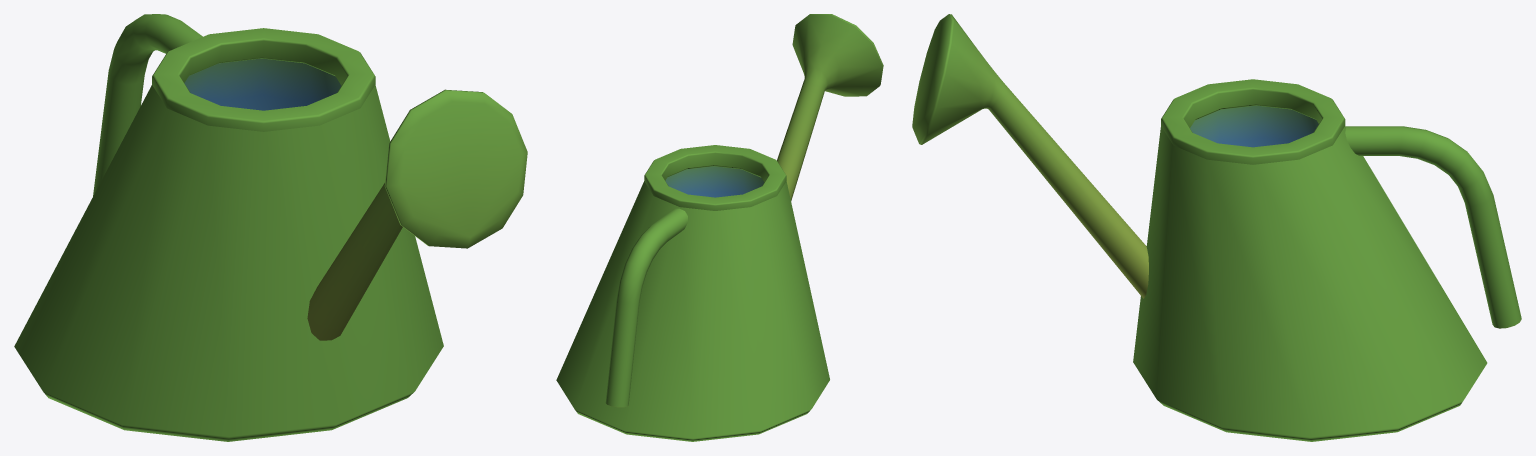
File: wateringCan.fbx
3 views of the same model, side by side, from view 1: azimuth 30°, elevation 25°; view 2: azimuth 150°, elevation 25°; view 3: azimuth 270°, elevation 25° (orthographic). The views are drawn at different scales.
Visible parts, largest first — view 1: wateringCan; view 2: wateringCan; view 3: wateringCan.
Boxes of the visible parts, x1,y1,x2,y2 form: wateringCan: [14, 14, 527, 441]; wateringCan: [556, 14, 883, 441]; wateringCan: [912, 14, 1521, 441].
Size of the model in its own units: 38.36 by 41.75 by 66.02.
Materials: 1 (1 with a texture image).
